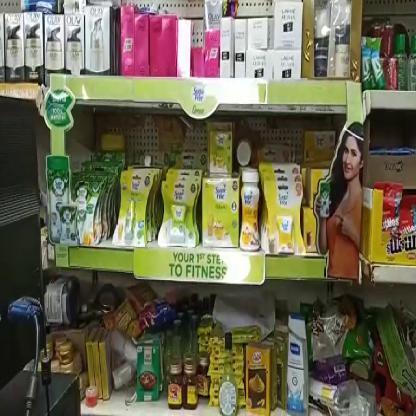SUGAR FREE GOLD 500 PELLET: (263, 184, 306, 258)
SUGAR FREE GOLD POWDER 100GM: (240, 171, 260, 252)
SUGAR FREE GRN 300 PELLET: (66, 174, 103, 249)
SUGAR FREE NATURA 500 PELLET: (158, 182, 200, 248)
SUGAR FREE NATURA SACHET 50: (202, 180, 240, 250)
SUGAR FREE NATURA SWEET DROPS: (113, 174, 154, 249)
